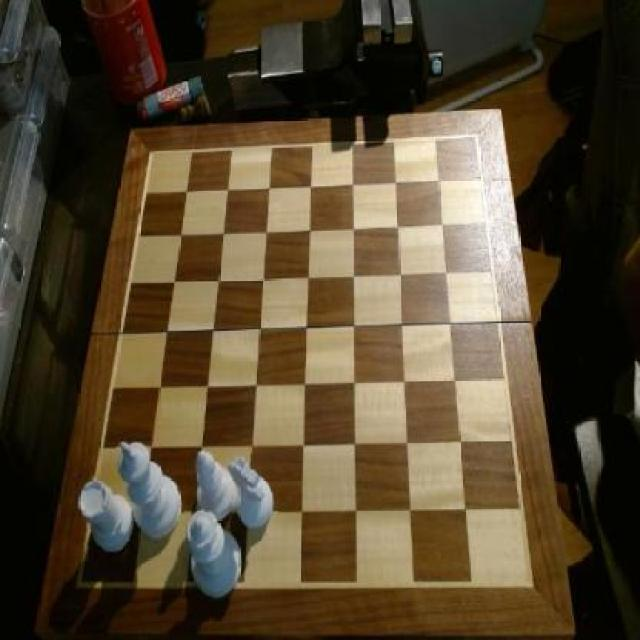black-rook: (192, 449, 237, 522)
white-bishop: (115, 437, 184, 541)
white-king: (228, 454, 278, 532)
white-pawn: (184, 509, 246, 602)
white-queen: (77, 475, 138, 560)
